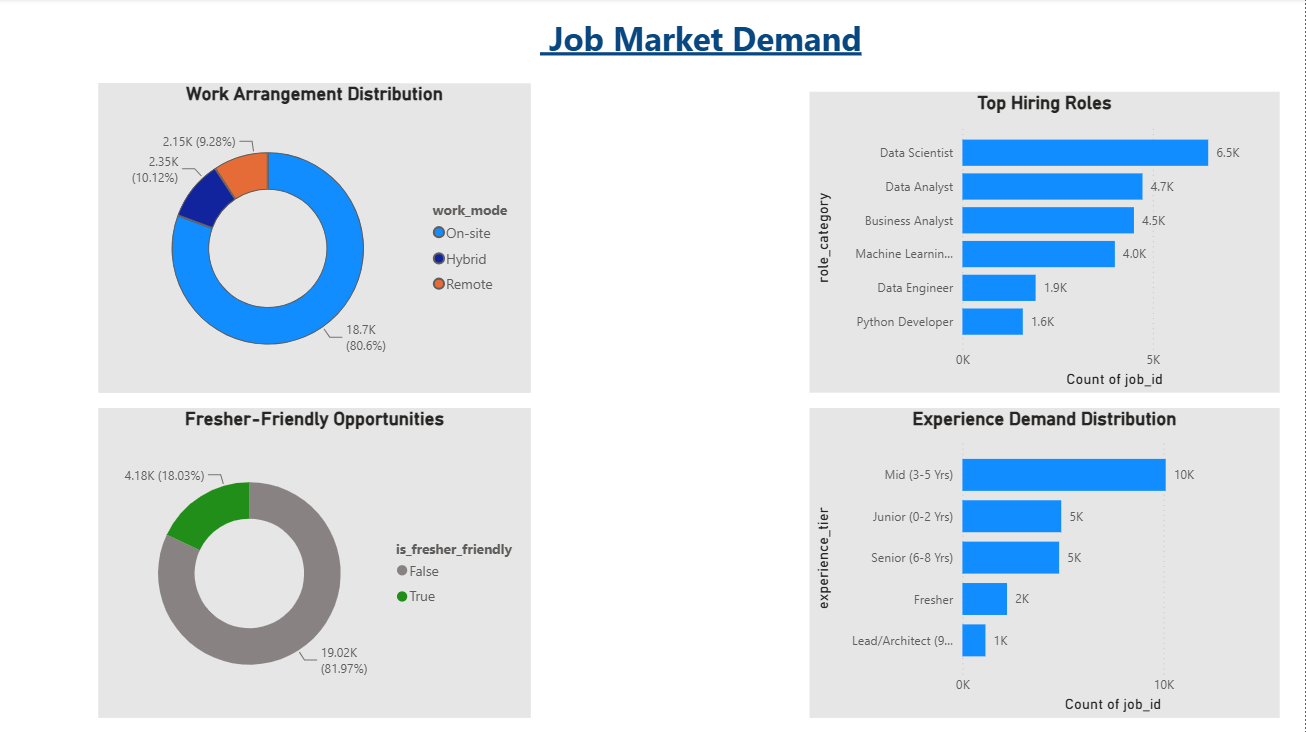

Layout of this report page (visuals, bound fields, positions):
{"tool":"powerbi","page":{"name":"Job Market Demand","canvas":[1280,720],"ordinal":1},"visuals":[{"type":"clusteredBarChart","title":"Top Hiring Roles","fields":{"Category":["indian_tech_jobs_2026.role_category"],"Y":["CountNonNull(indian_tech_jobs_2026.job_id)"]},"box":[9.6,0,430.9,345.8],"z":0},{"type":"clusteredBarChart","title":"Experience Demand Distribution","fields":{"Category":["indian_tech_jobs_2026.experience_tier"],"Y":["CountNonNull(indian_tech_jobs_2026.job_id)"]},"box":[458.3,0,430.9,345.8],"z":1000},{"type":"donutChart","title":"Work Arrangement Distribution","fields":{"Category":["indian_tech_jobs_2026.work_mode"],"Y":["CountNonNull(indian_tech_jobs_2026.job_id)"]},"box":[9.6,370.5,430.9,349.9],"z":2000},{"type":"donutChart","title":"Fresher-Friendly Opportunities","fields":{"Category":["indian_tech_jobs_2026.is_fresher_friendly"],"Y":["CountNonNull(indian_tech_jobs_2026.job_id)"]},"box":[458.3,370.5,430.9,349.9],"z":3000}]}

Visuals, with their boxes in screenshot pixels (x1, y1, x2, y2), scaled from the page's 1280x720 canvas onto the 1306x732 screenshot:
"Top Hiring Roles" clusteredBarChart: 10 0 449 352
"Experience Demand Distribution" clusteredBarChart: 468 0 907 352
"Work Arrangement Distribution" donutChart: 10 377 449 731
"Fresher-Friendly Opportunities" donutChart: 468 377 907 731
